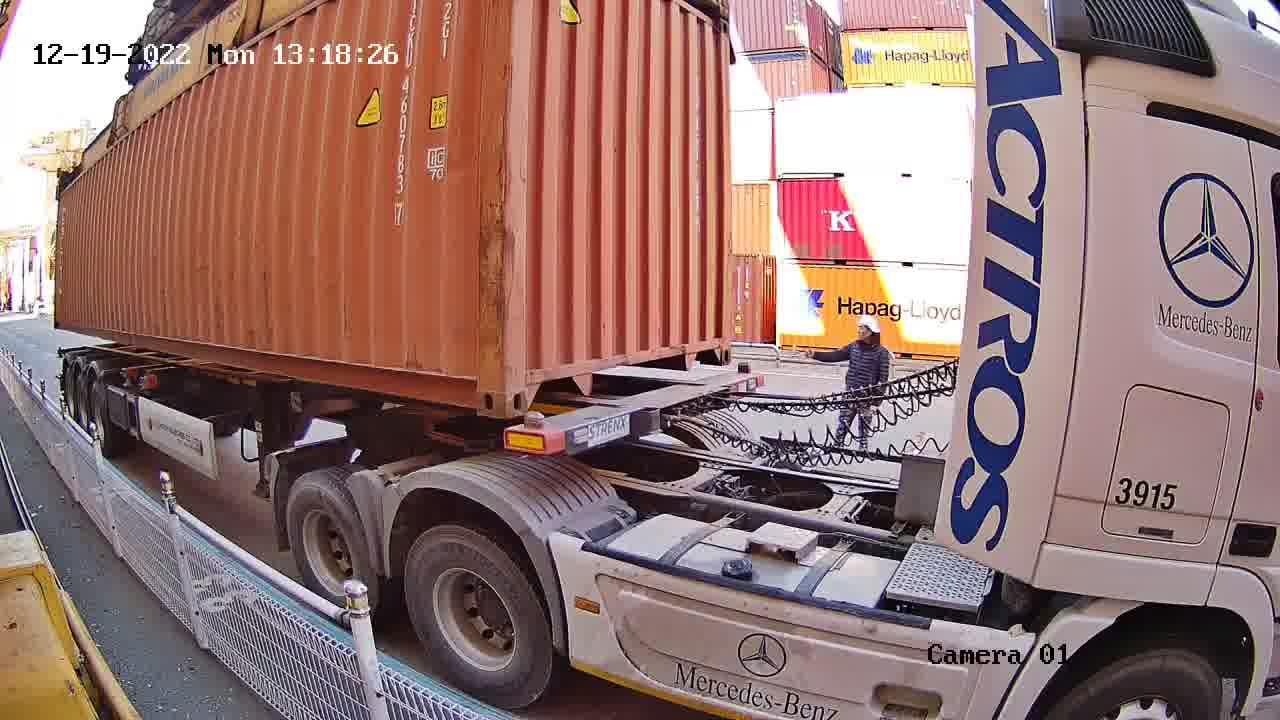Chassis: (506, 371, 764, 456)
Cone: (507, 412, 557, 454), (737, 360, 754, 382)
Hole_L: (505, 354, 551, 416)
Hole_R: (449, 352, 501, 416), (697, 325, 734, 368)
Tire: (403, 527, 550, 710), (283, 473, 372, 611)
